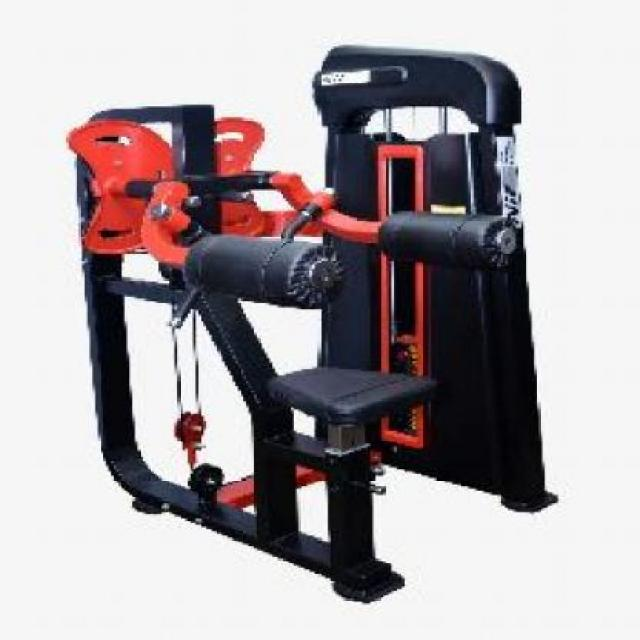lateral raises machine: (65, 41, 557, 604)
